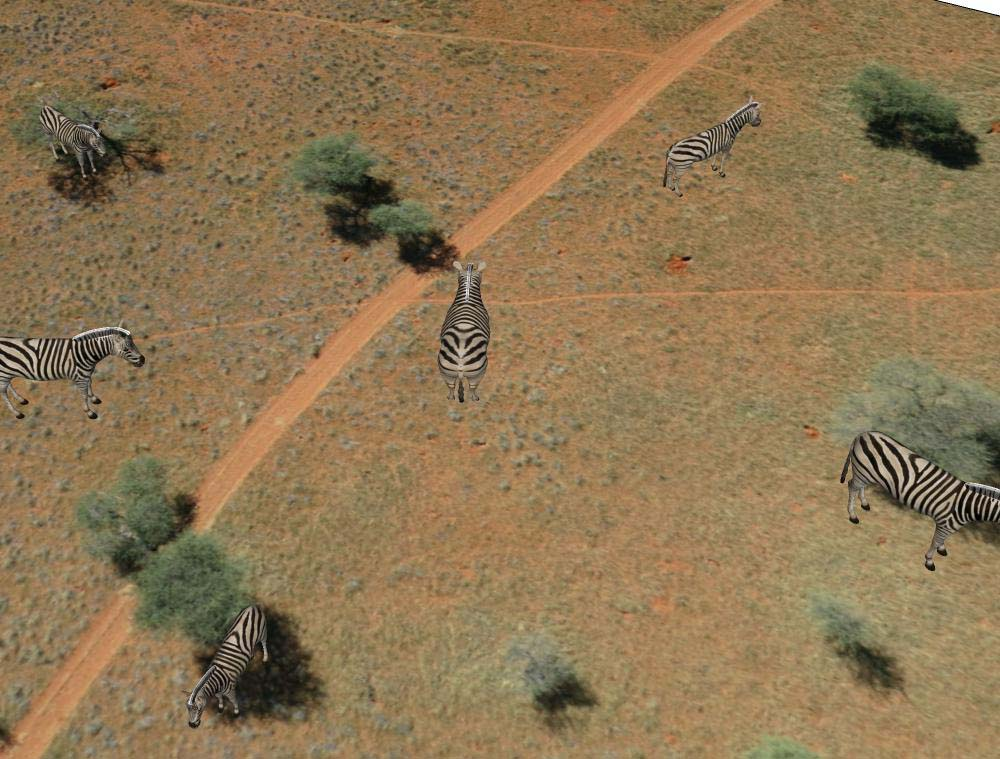zebra: (837, 423, 1000, 569), (2, 318, 139, 426), (183, 599, 271, 731), (661, 94, 763, 199), (437, 258, 501, 410), (34, 105, 104, 175)
